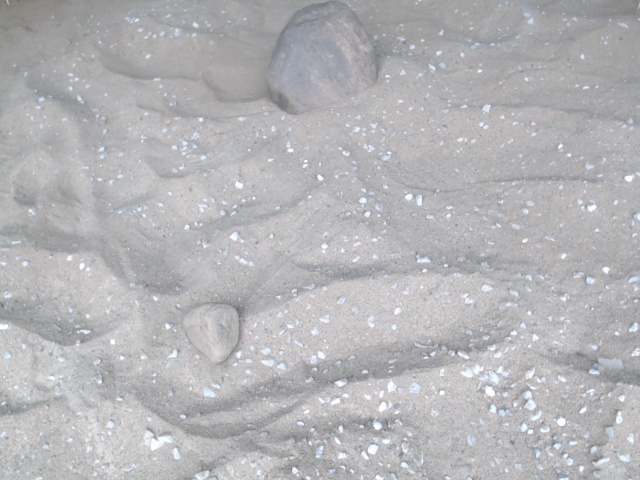rock: (260, 1, 384, 121), (178, 298, 244, 369)
